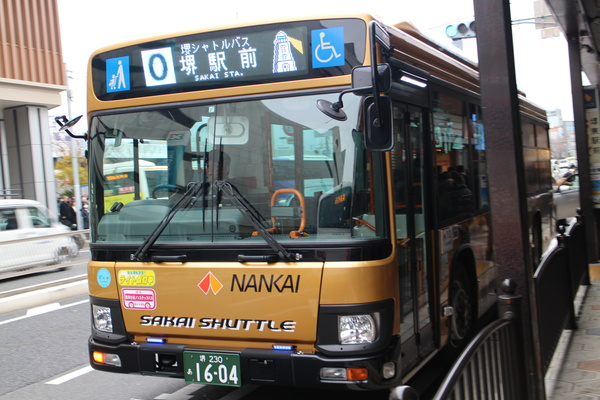destination: (131, 25, 308, 91)
